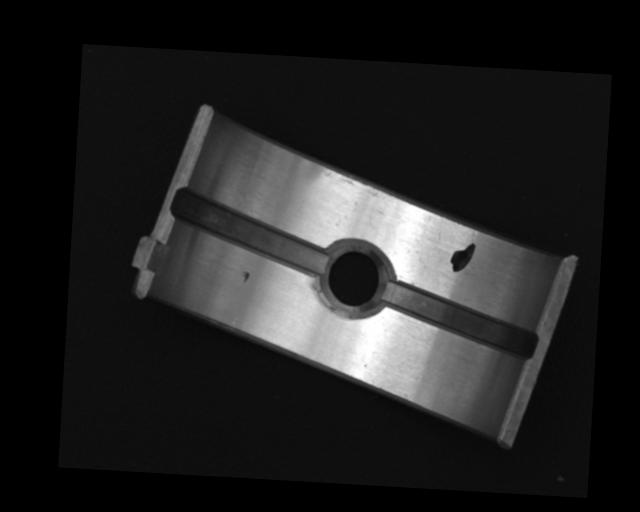blot: (449, 242, 476, 274)
bruise: (242, 270, 250, 283)
gap: (171, 189, 330, 277), (380, 283, 542, 360)
hole: (319, 241, 392, 320)
